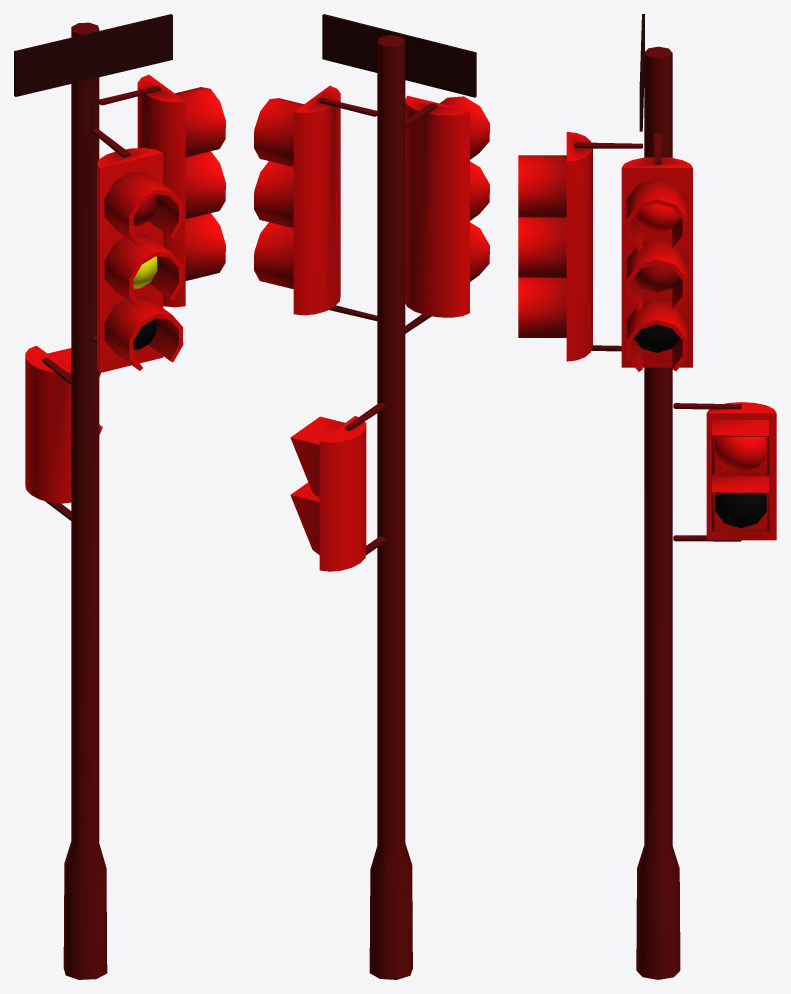
The model's file is YellowTrafficLight002.glb.
3 renders of one model, left to right at view 1: azimuth 30°, elevation 25°; view 2: azimuth 150°, elevation 25°; view 3: azimuth 270°, elevation 25°, orthographic. The views are drawn at different scales.
Visible parts, largest first — view 1: YellowTrafficLight002; view 2: YellowTrafficLight002; view 3: YellowTrafficLight002.
Boxes of the visible parts, bbox=[...] form: YellowTrafficLight002: bbox=[14, 14, 225, 979]; YellowTrafficLight002: bbox=[254, 14, 489, 979]; YellowTrafficLight002: bbox=[518, 14, 776, 979].
Size of the model in its own units: 5.4 by 24.05 by 6.13.
